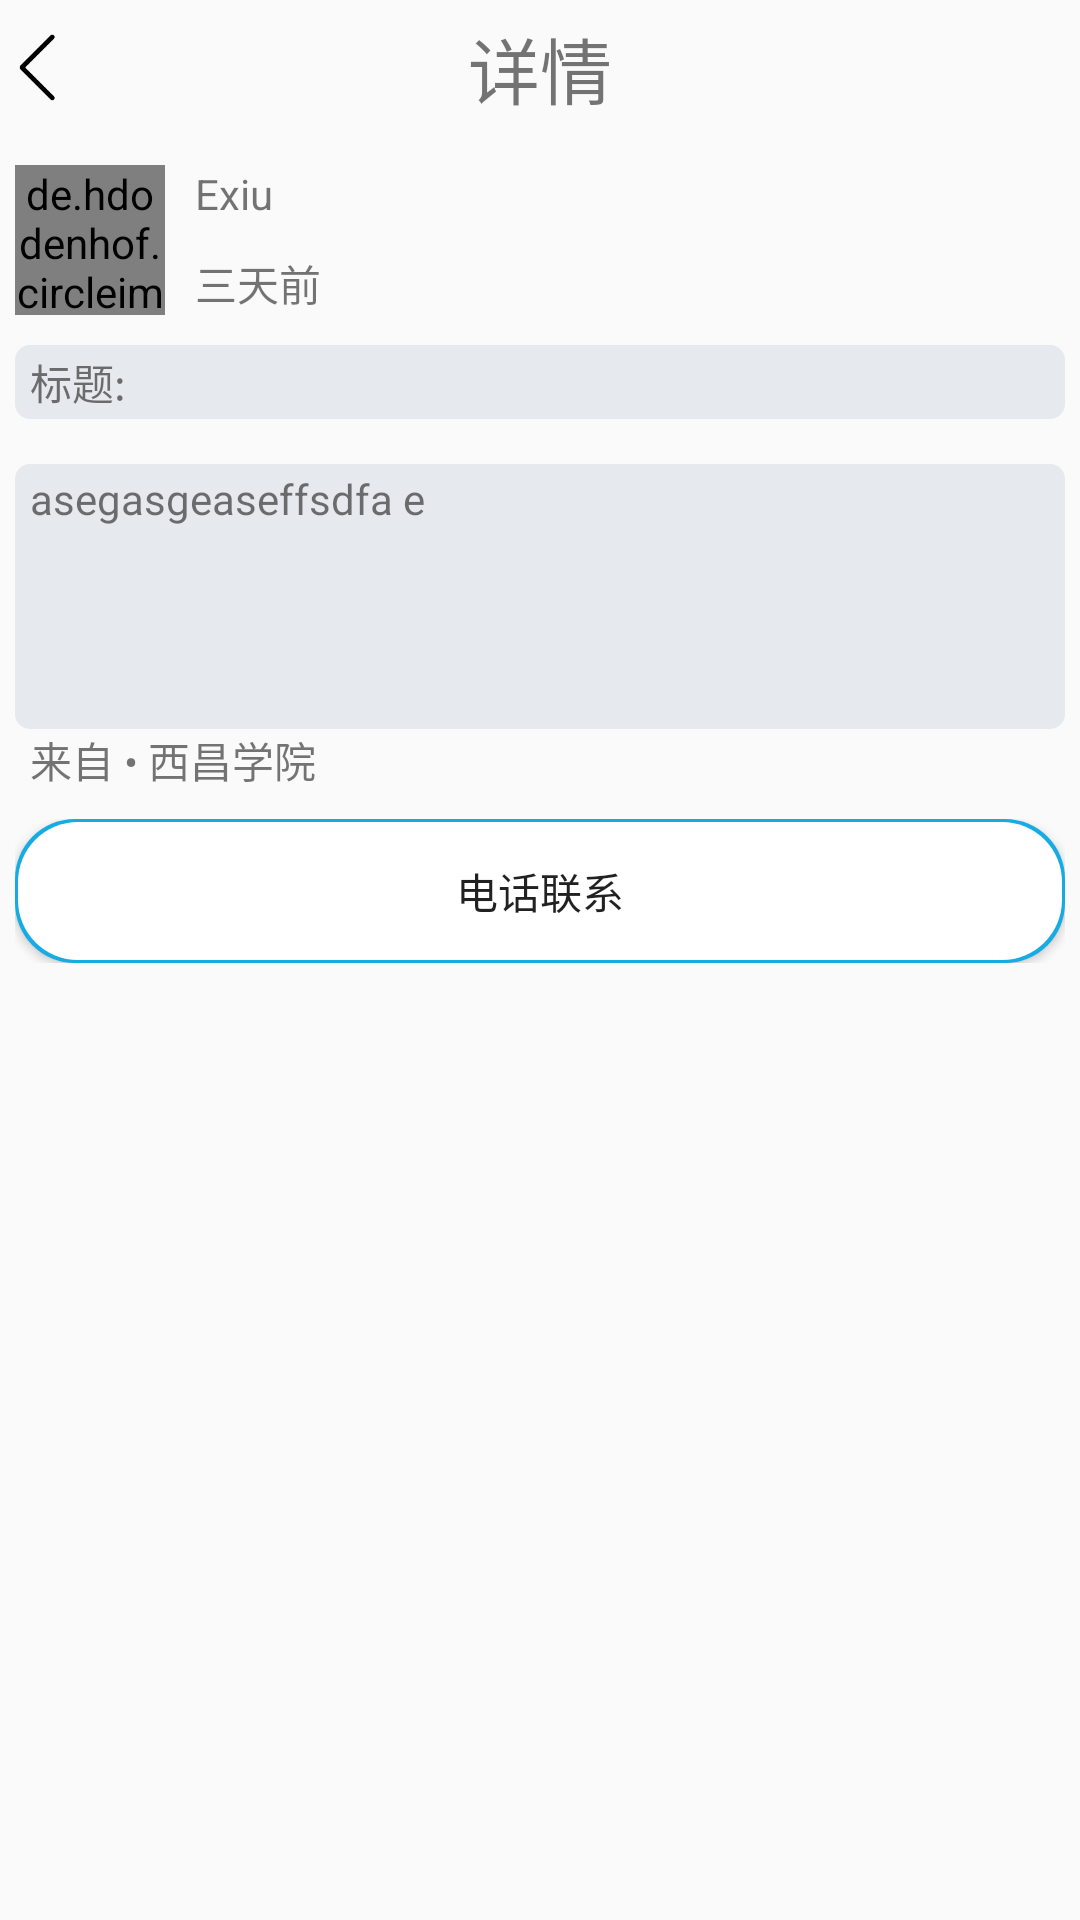

Named icons in this screenshot (1080px x 1920px) and their bounding boxes, [x1,y1,x2,y2]:
back: [19,34,55,101]
